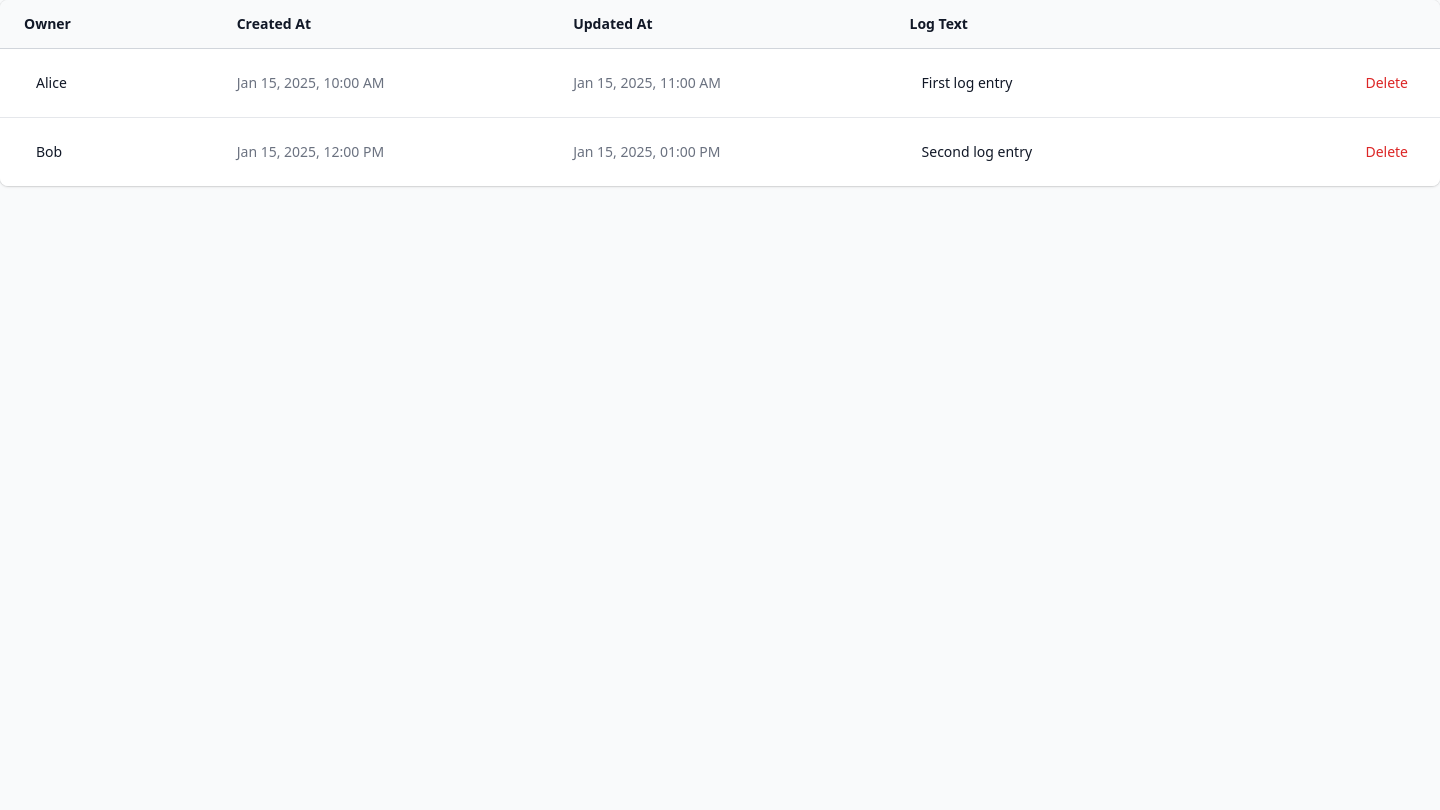
Scenario: LogsTable › should close delete modal when cancel is clicked
Click the button with aria-label "delete log by" at (1387, 83), box [1357,69,1416,97]
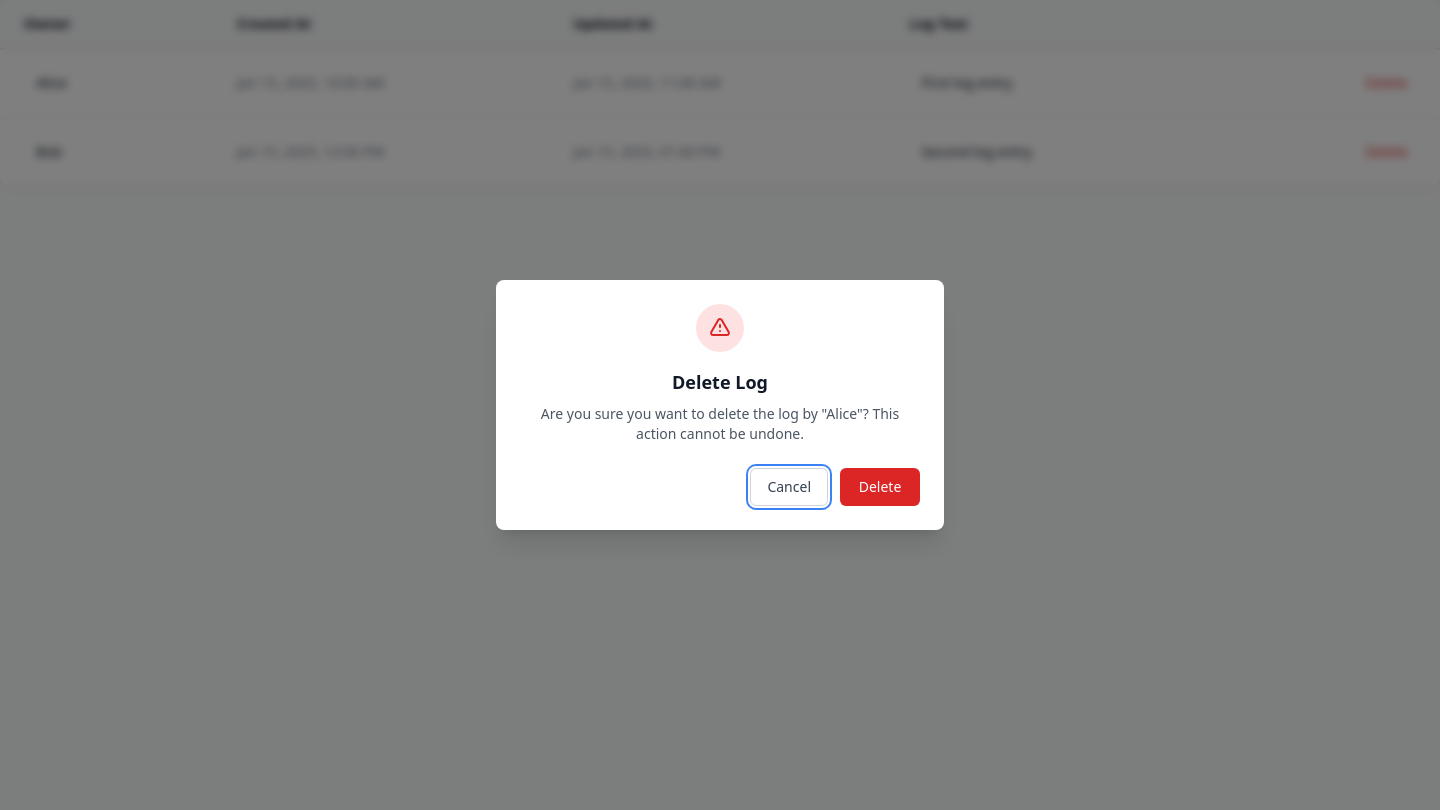
Expected: the heading "Delete Log" is shown, [672,370,768,394]
Click the button "Cancel" at (789, 487), box [750,468,828,506]
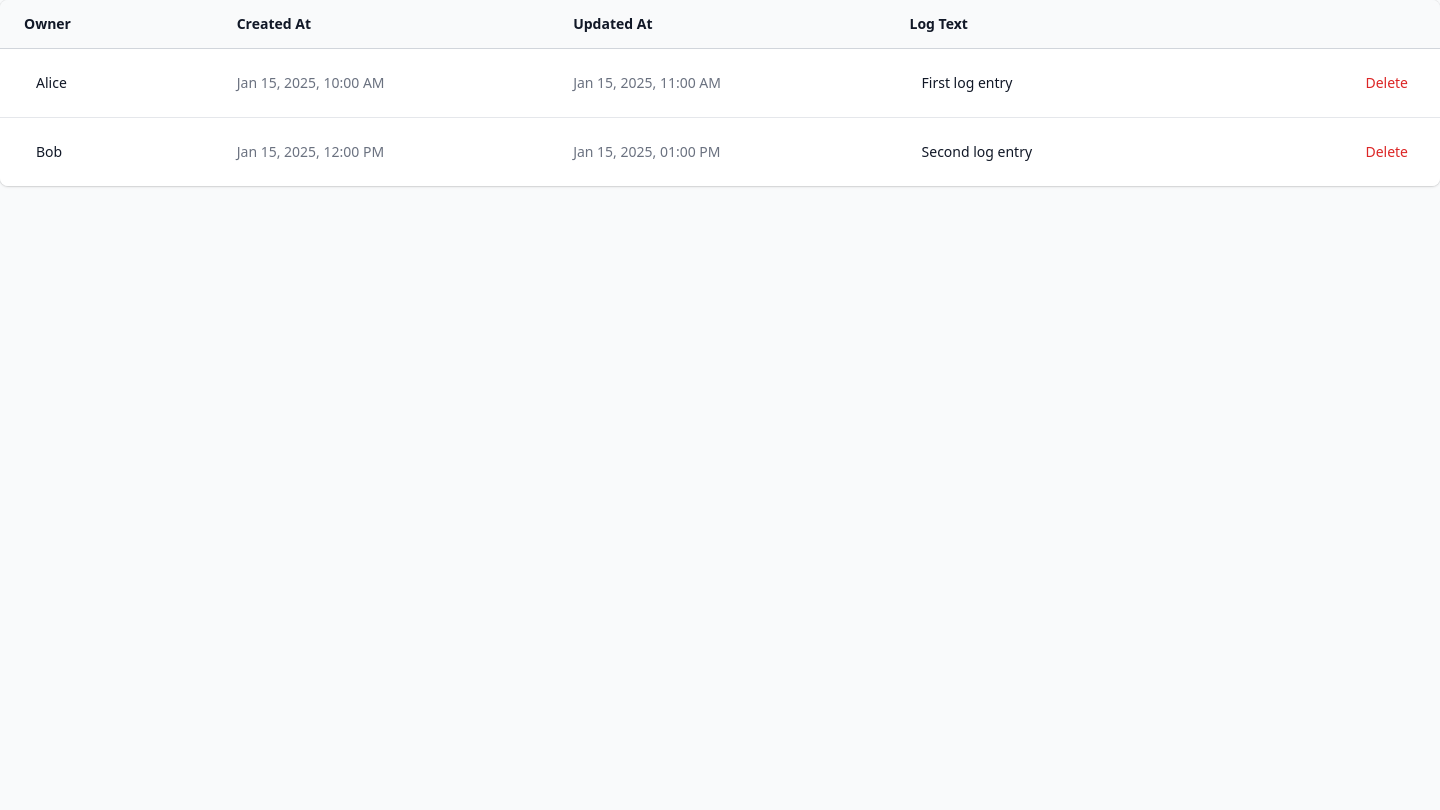
Expected: the heading "Delete Log" is gone
